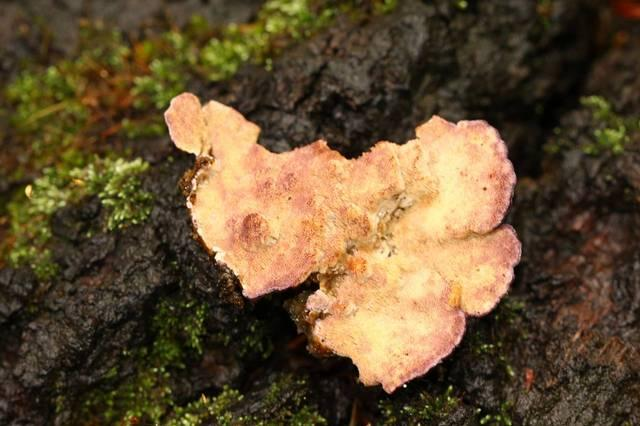Non-edible Mushroom: (162, 90, 523, 394)
